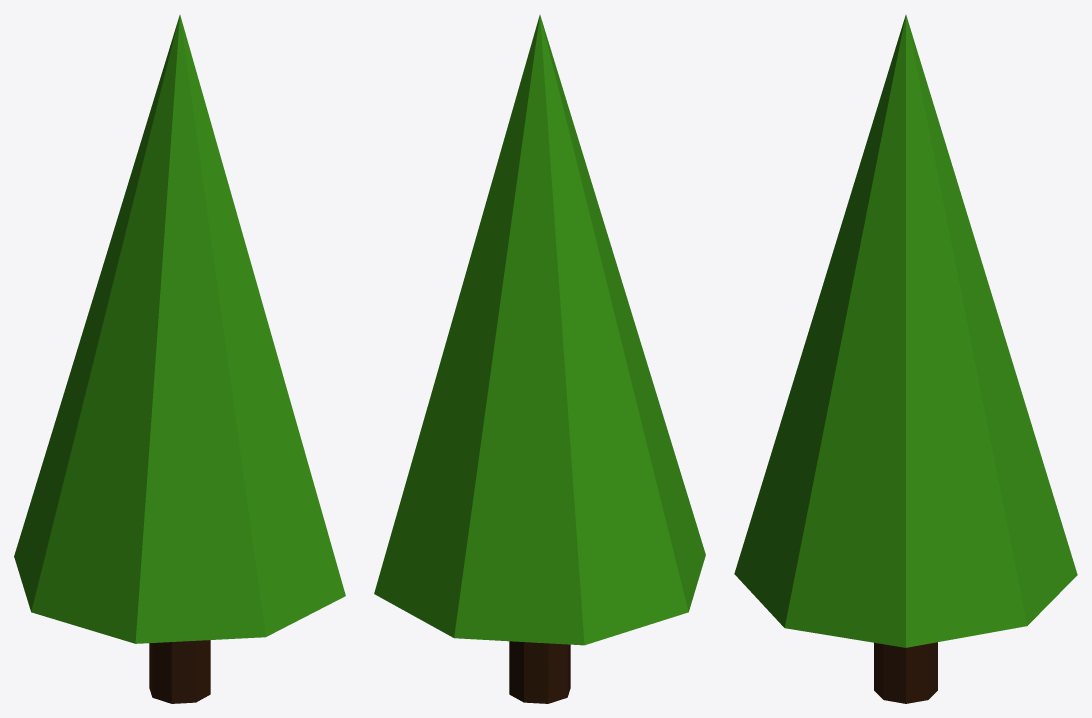
Rendered from forest.obj.
The picture shows the model from 3 angles, left to right: view 1: azimuth 30°, elevation 25°; view 2: azimuth 150°, elevation 25°; view 3: azimuth 270°, elevation 25°; orthographic projection.
Parts seen in each view (by area): view 1: Cylinder; view 2: Cylinder; view 3: Cylinder.
Part boxes in pixels (x1,y1,x2,y2): Cylinder: (14, 15, 345, 703); Cylinder: (374, 15, 705, 703); Cylinder: (734, 15, 1077, 703).
Bounding box in the file's own units: 3.73 × 8.11 × 3.73.
